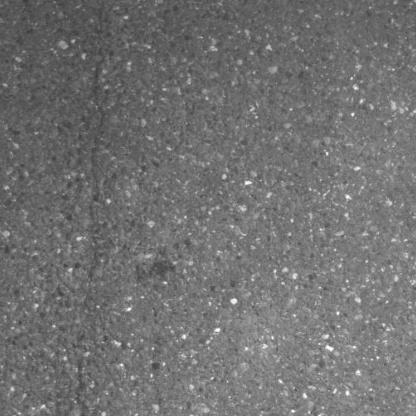Cracks: (77, 0, 109, 334), (78, 361, 94, 416)
